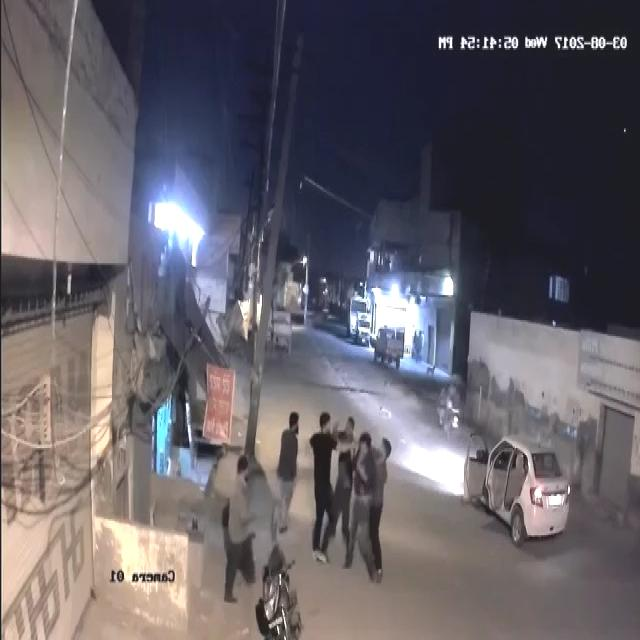fight: (307, 410, 356, 573), (350, 430, 392, 586)
